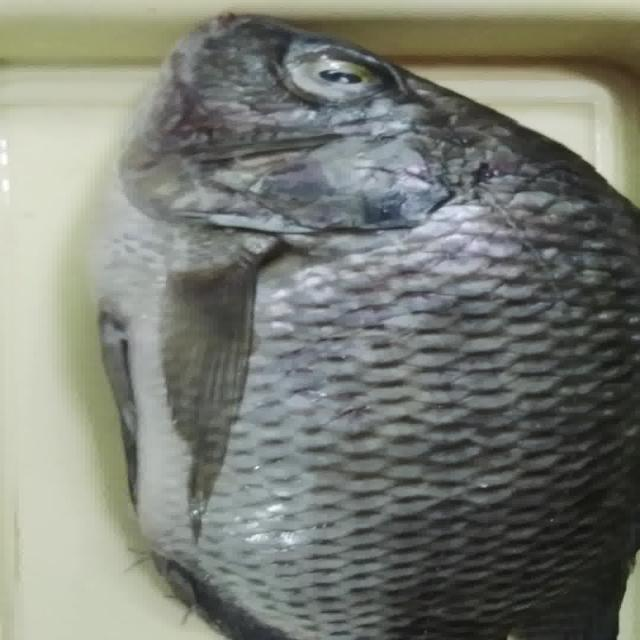Non-Fresh: (130, 121, 624, 582)
